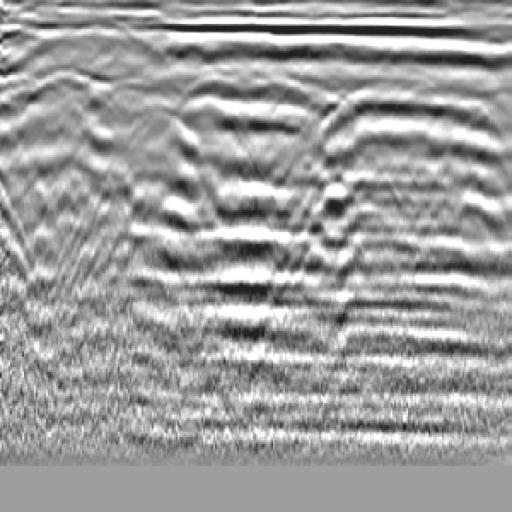metalic: (78, 61, 144, 160)
